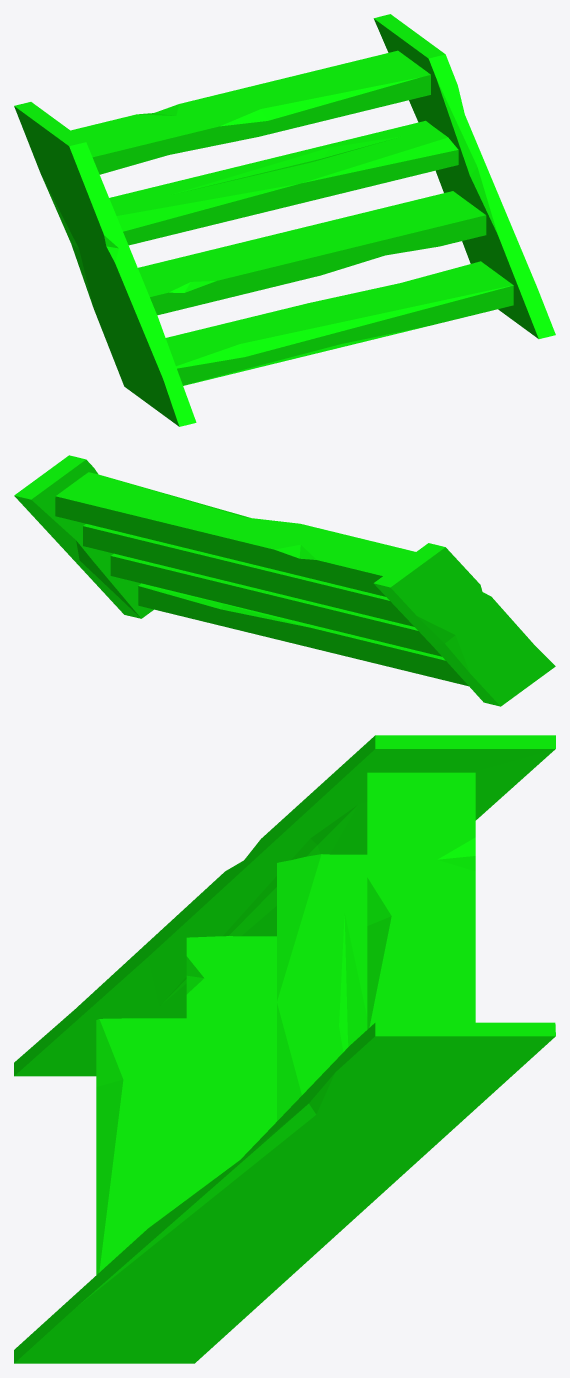
File: SM_Stairs_Wood_Regular_Middle_2m_Fantasy.fbx
The picture shows the model from 3 angles, top to bottom: view 1: azimuth 30°, elevation 25°; view 2: azimuth 150°, elevation 25°; view 3: azimuth 270°, elevation 25°; orthographic projection. The views are drawn at different scales.
Parts seen in each view (by area): view 1: stairs-wood-regular-middle-2m-fantasy; view 2: stairs-wood-regular-middle-2m-fantasy; view 3: stairs-wood-regular-middle-2m-fantasy.
Boxes of the visible parts, x1=… form: stairs-wood-regular-middle-2m-fantasy: x1=14, y1=14, x2=555, y2=426; stairs-wood-regular-middle-2m-fantasy: x1=14, y1=455, x2=555, y2=706; stairs-wood-regular-middle-2m-fantasy: x1=14, y1=735, x2=555, y2=1363.
Bounding box in the file's own units: 1.97 × 1 × 1.5.
